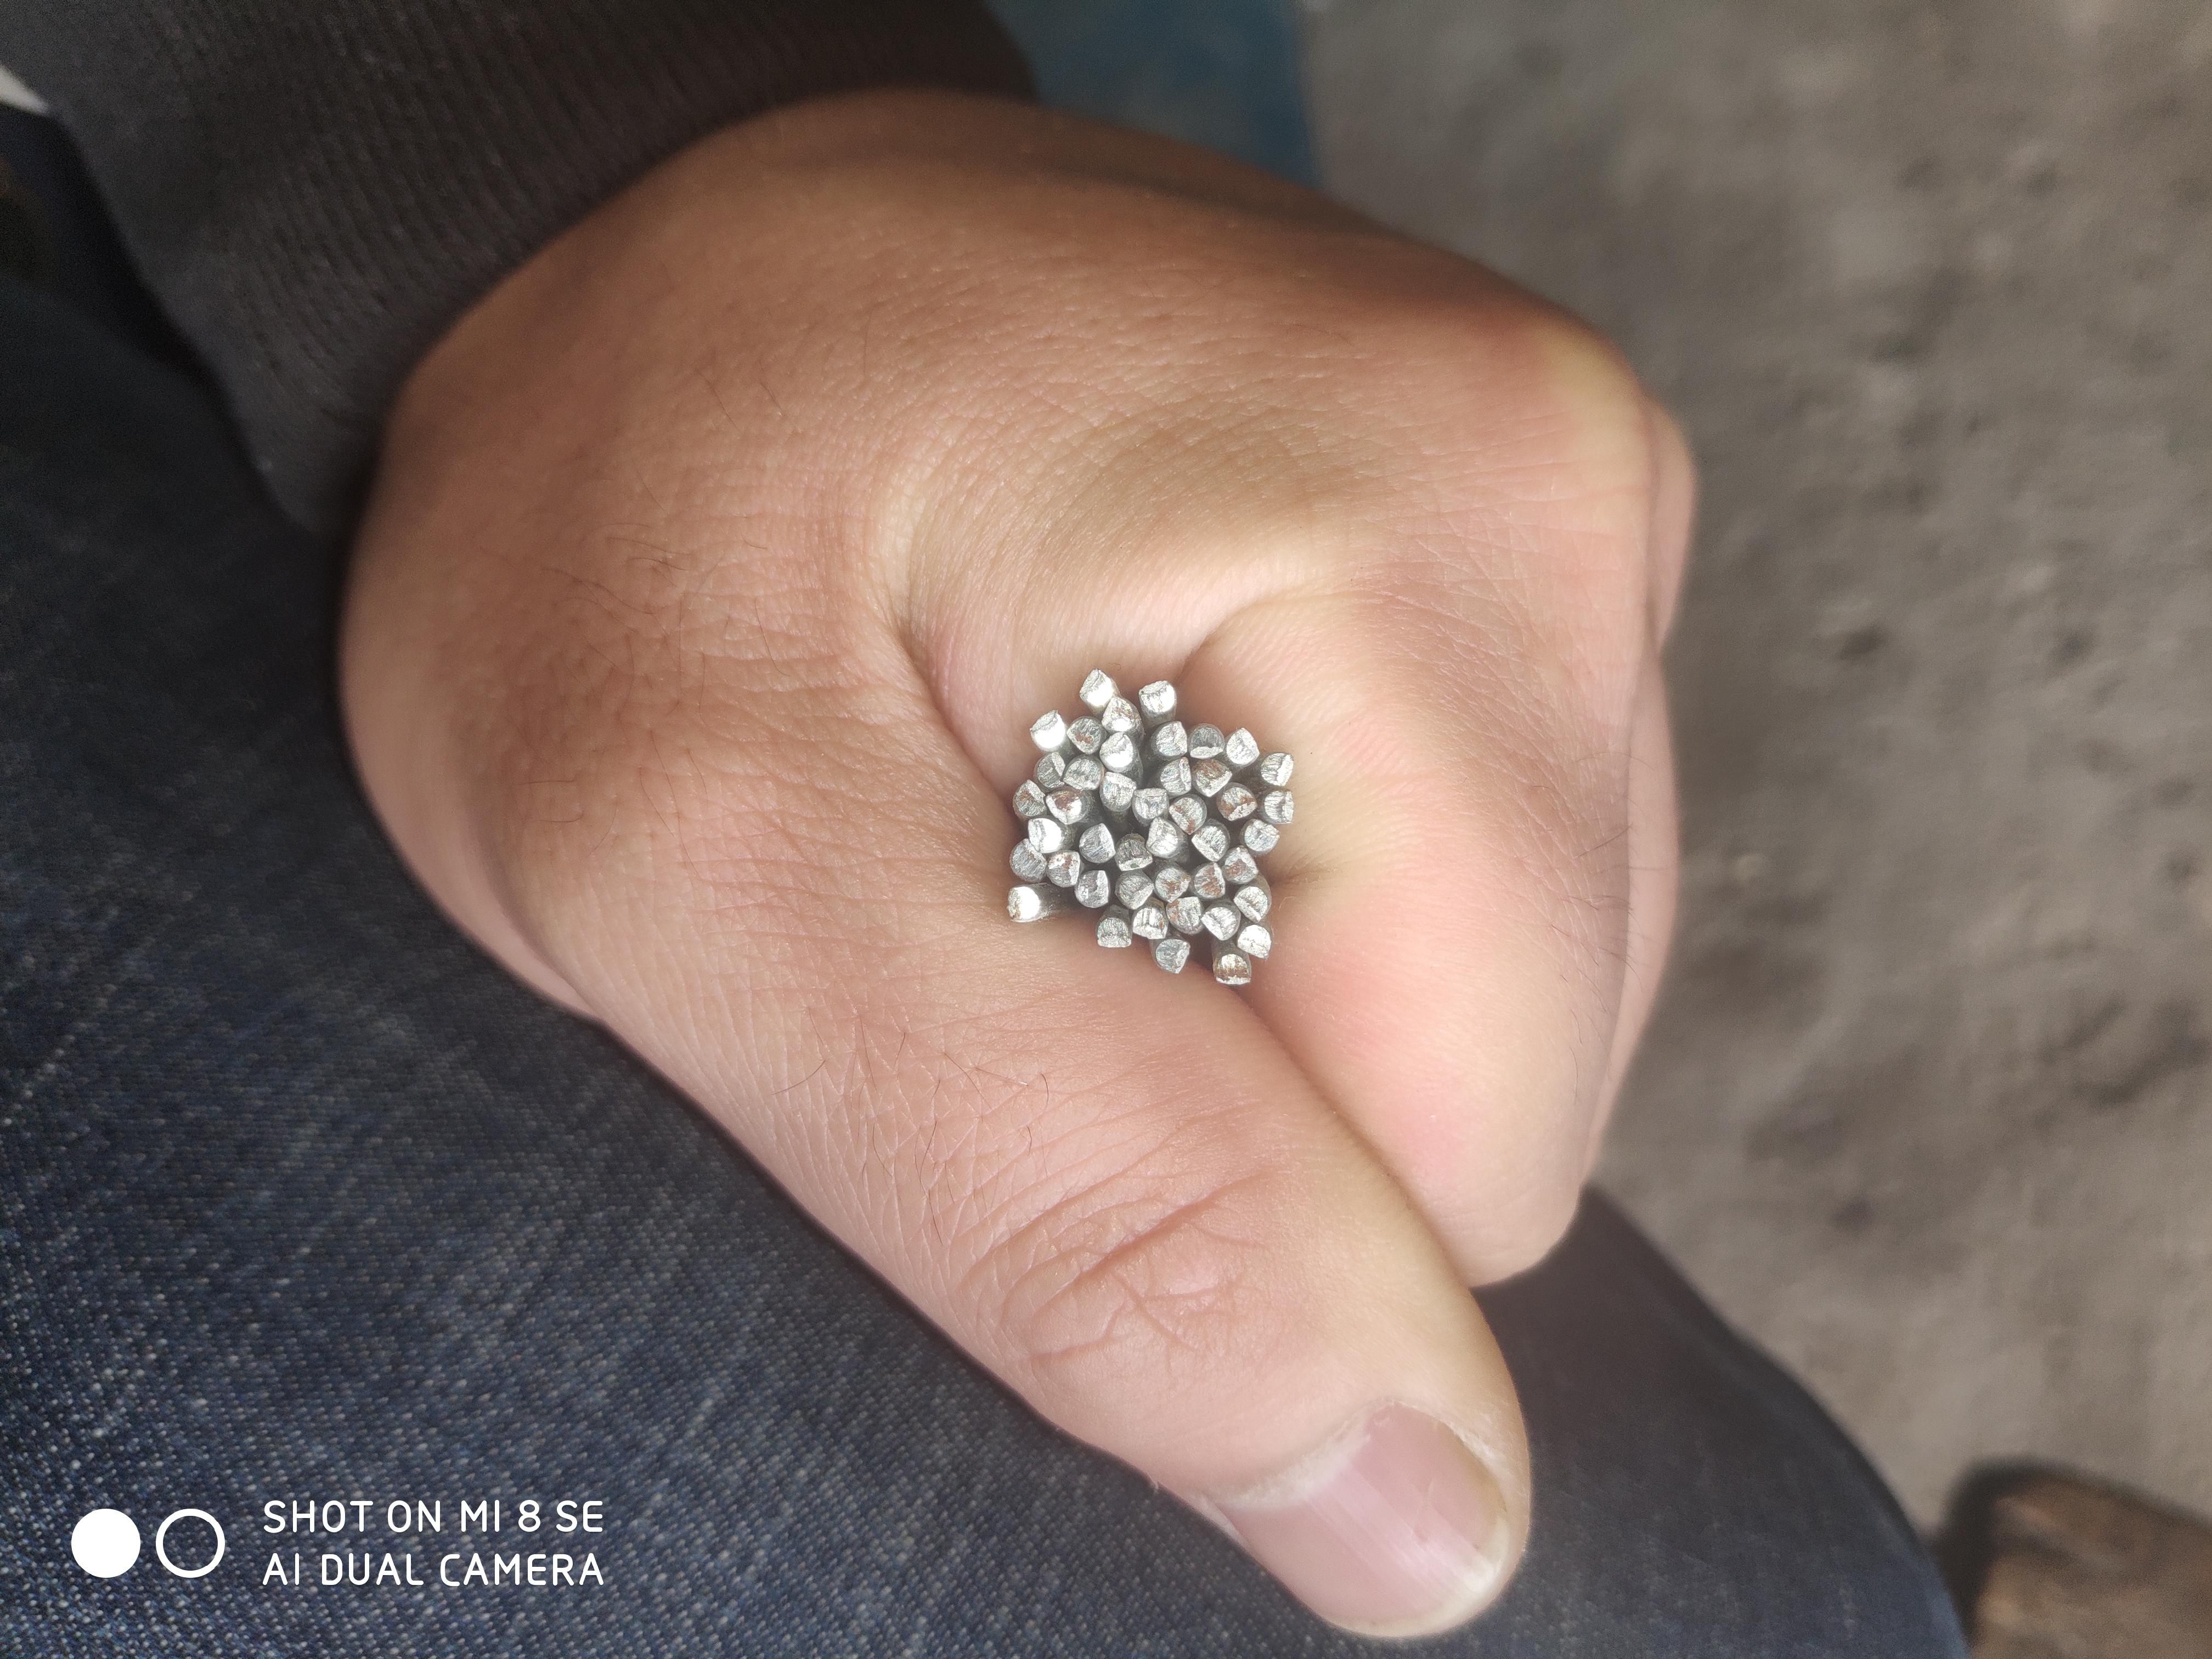rebar: (1028, 708, 1069, 752), (1009, 837, 1049, 884), (1165, 896, 1205, 937), (1099, 731, 1138, 772), (1193, 758, 1233, 799), (1136, 678, 1178, 715), (1099, 771, 1137, 812), (1077, 822, 1116, 864), (1154, 936, 1192, 978), (1144, 816, 1180, 860), (1078, 667, 1116, 707), (1065, 716, 1107, 754), (1168, 795, 1205, 836), (1224, 726, 1261, 768), (1045, 788, 1084, 826), (1189, 825, 1228, 863), (1026, 817, 1066, 855), (1218, 786, 1258, 822), (1222, 845, 1260, 886), (1100, 696, 1138, 734), (1153, 866, 1192, 904), (1259, 751, 1297, 788), (1243, 818, 1280, 854), (1232, 885, 1270, 922), (1200, 906, 1239, 942), (1062, 757, 1101, 792), (1075, 869, 1110, 909), (1115, 874, 1155, 910), (1192, 860, 1226, 901), (1213, 953, 1252, 988), (1114, 839, 1154, 871), (1096, 916, 1132, 951), (1188, 723, 1225, 760), (1155, 719, 1189, 757), (1013, 779, 1047, 818), (1006, 886, 1042, 923), (1235, 923, 1273, 959), (1047, 850, 1082, 888), (1132, 786, 1169, 820), (1262, 788, 1296, 825), (1034, 752, 1067, 789), (1131, 907, 1168, 939), (1159, 758, 1193, 795)
